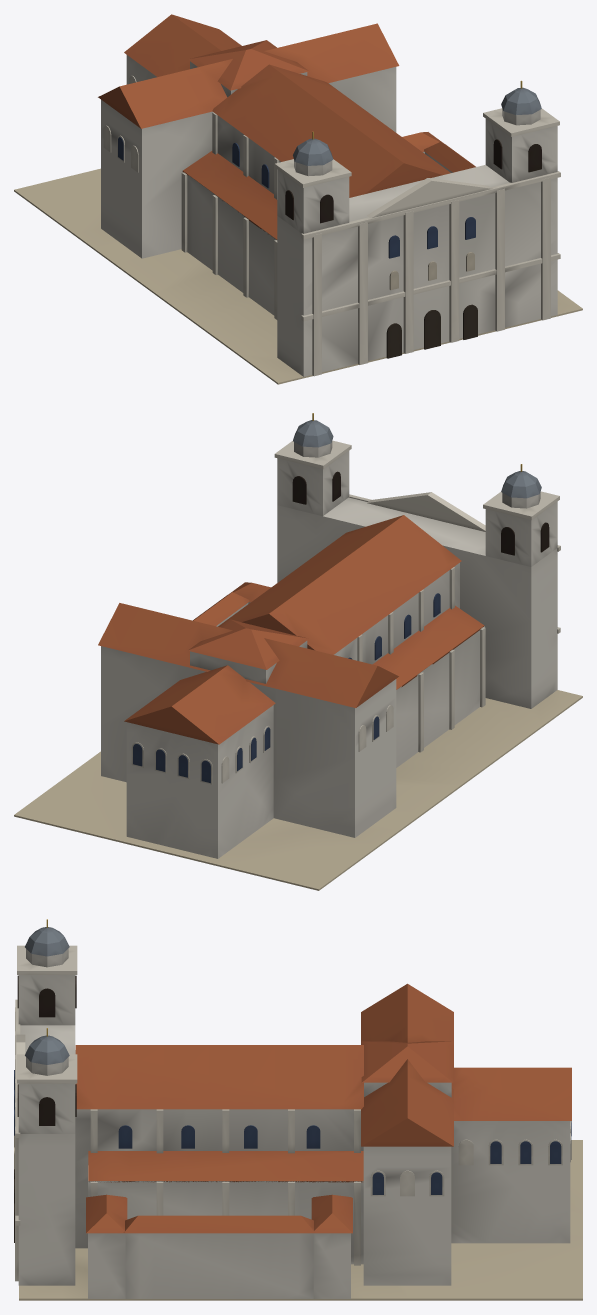
The model's file is sao-vicente-1800.glb.
3 views of the same model, one above another, from view 1: azimuth 30°, elevation 25°; view 2: azimuth 150°, elevation 25°; view 3: azimuth 270°, elevation 25° (orthographic). The views are drawn at different scales.
Parts seen in each view (by area): view 1: p2_front, p1_church, p0_ground; view 2: p1_church, p2_front, p0_ground; view 3: p1_church, p2_front, p0_ground.
Boxes of the visible parts, left/top/right/bottom form: p2_front: left=188, top=40, right=560, bottom=376; p1_church: left=98, top=14, right=475, bottom=319; p0_ground: left=14, top=168, right=582, bottom=384; p1_church: left=98, top=515, right=485, bottom=858; p2_front: left=188, top=413, right=560, bottom=708; p0_ground: left=14, top=690, right=582, bottom=890; p1_church: left=75, top=983, right=571, bottom=1298; p2_front: left=14, top=919, right=453, bottom=1285; p0_ground: left=19, top=1140, right=582, bottom=1300.
Size of the model in its own units: 60.3 by 43.5 by 90.8.
